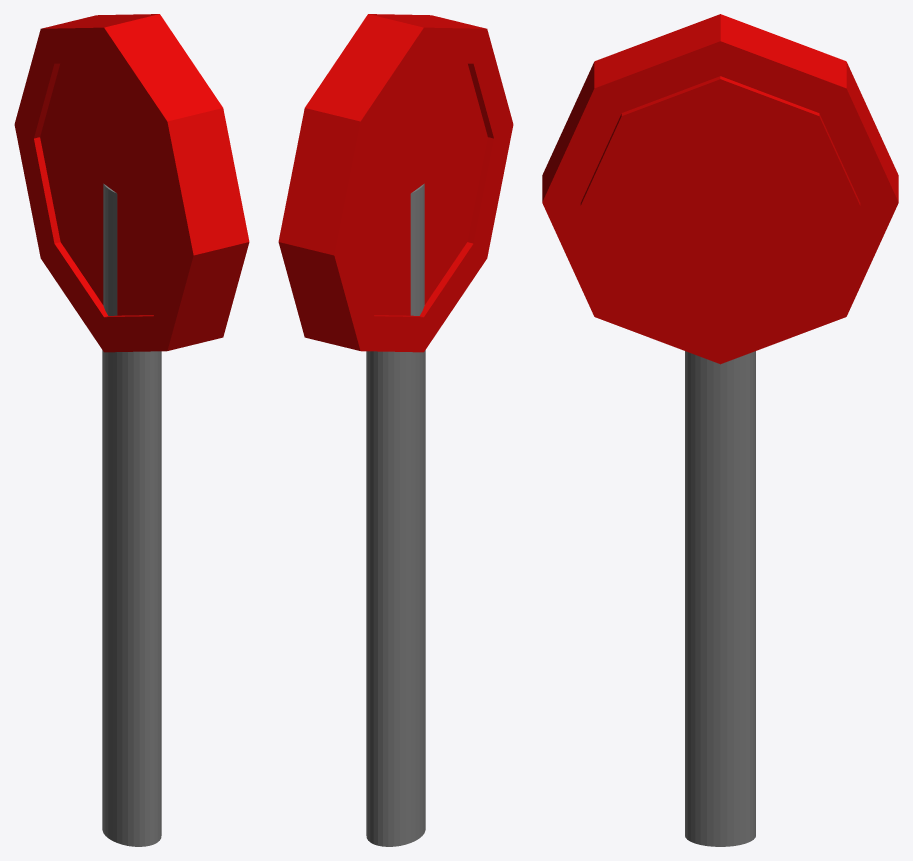
The model's file is StopSign.fbx.
3 views of the same model, side by side, from view 1: azimuth 30°, elevation 25°; view 2: azimuth 150°, elevation 25°; view 3: azimuth 270°, elevation 25° (orthographic).
Visible parts, largest first — view 1: Cylinder.001, Cylinder; view 2: Cylinder.001, Cylinder; view 3: Cylinder.001, Cylinder.
Part boxes in pixels (left/top/right/bottom): Cylinder.001: left=14, top=14, right=249, bottom=352; Cylinder: left=102, top=183, right=161, bottom=846; Cylinder.001: left=278, top=14, right=513, bottom=352; Cylinder: left=366, top=183, right=425, bottom=846; Cylinder.001: left=542, top=14, right=898, bottom=364; Cylinder: left=685, top=351, right=755, bottom=846.
Bounding box in the file's own units: 10 × 125 × 50.
